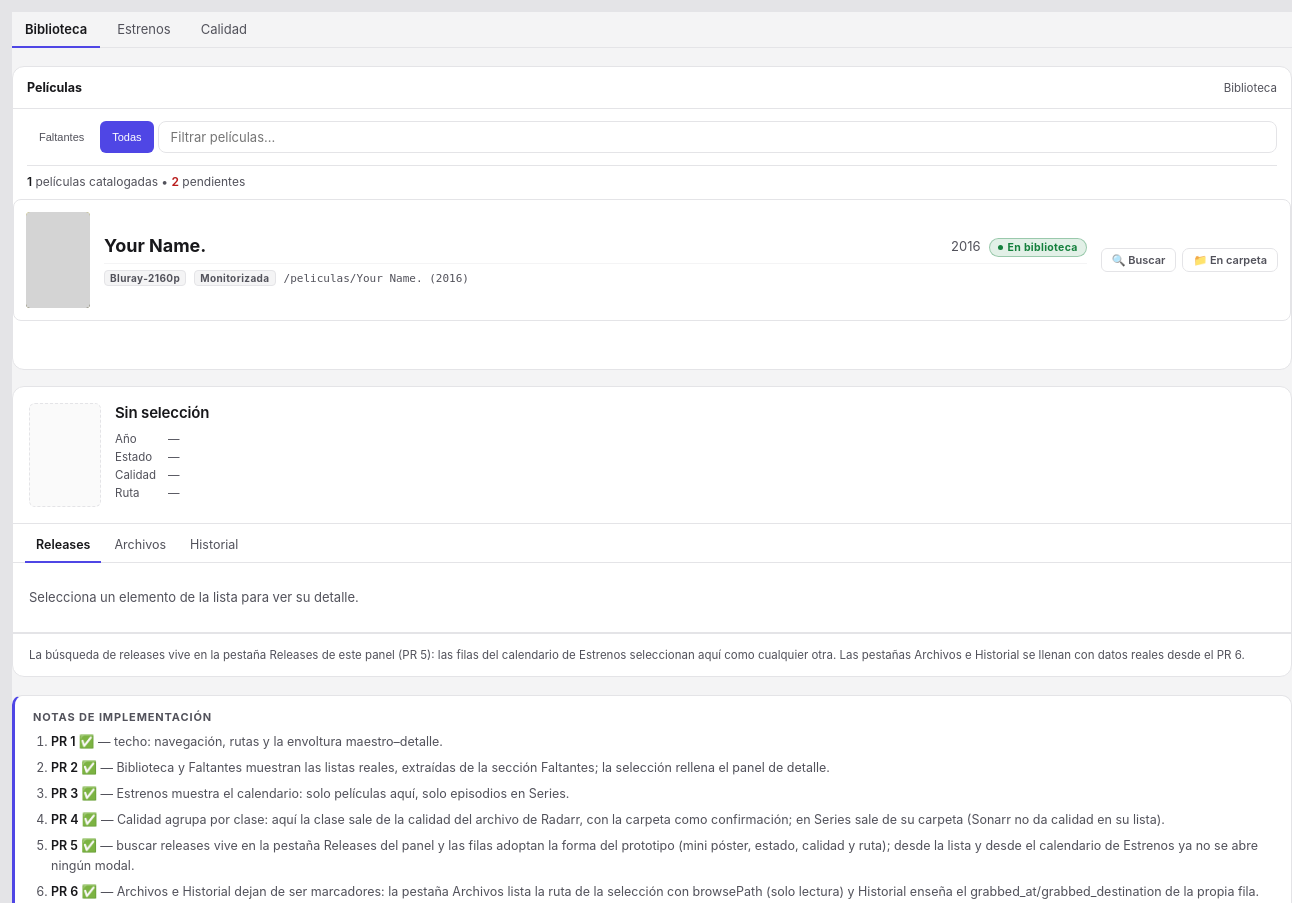
Test: sections · the prototype rows › draws the dense row: mini-poster, status pill, quality chip and path
This screenshot has width=1292, height=903.
Check: the text "Your Name." is shown, box [104,235,206,256]
Check: the text with class "sec-row-year" reads "2016", box [951,238,981,254]
Selection wiring survived the restyle.
Click the element with class "sec-row": click(652, 260) [13,199,1291,321]
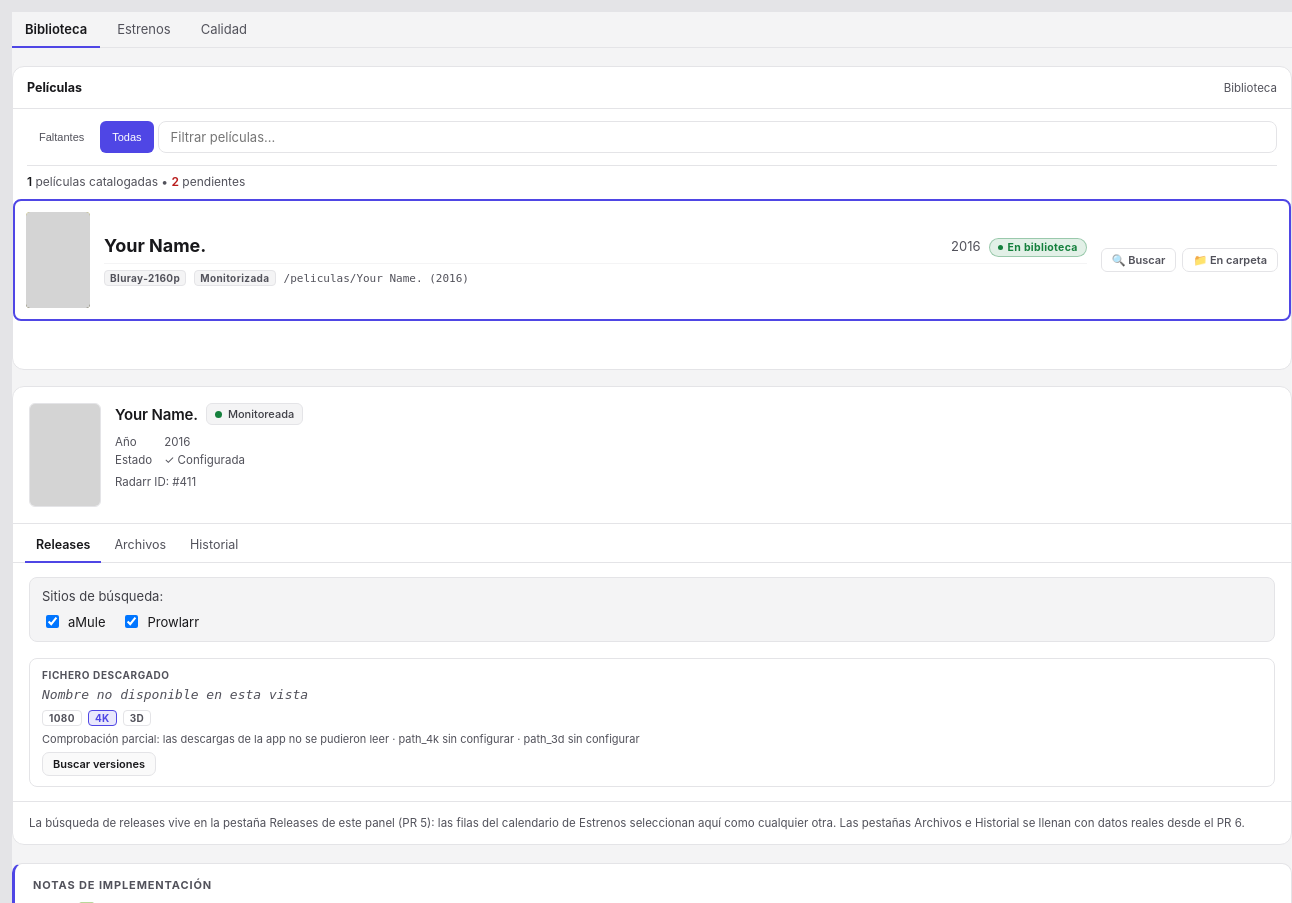
Check: the heading "Your Name." is shown, box [115,404,198,424]
